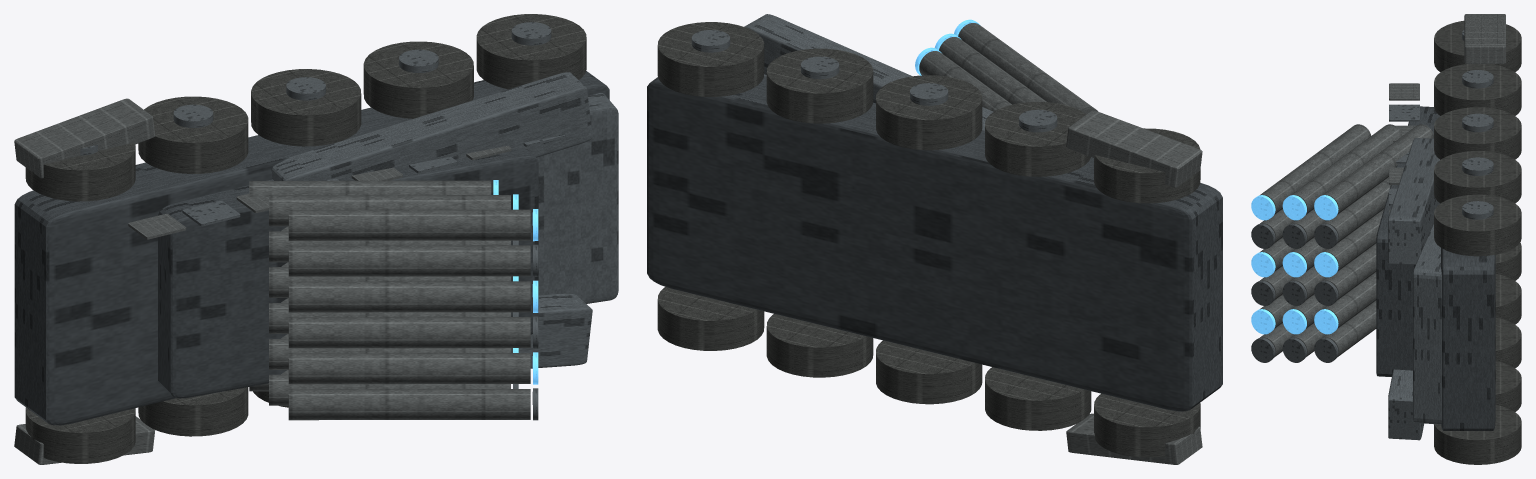
The model's file is s-u17-specter-rocket-artillery-lod0.glb.
3 views of the same model, side by side, from view 1: azimuth 30°, elevation 25°; view 2: azimuth 150°, elevation 25°; view 3: azimuth 270°, elevation 25° (orthographic). The views are drawn at different scales.
Visible parts, largest first — view 1: chassis_lower, stealth_upper_hull, stealth_cheek_1, chassis_nose, rocket_tube_16, rocket_tube_17, rocket_tube_15, rocket_tube_18, rocket_tube_14, rocket_tube_13, chassis_wheel_1_2, chassis_wheel_1_3 (+21 smaller); view 2: chassis_lower, chassis_wheel_1_3, chassis_wheel_1_4, chassis_wheel_1_2, chassis_wheel_1_1, rocket_jack_1, chassis_wheel_-1_3, chassis_wheel_-1_4, chassis_wheel_-1_2, chassis_wheel_-1_1, chassis_wheel_-1_0, chassis_wheel_1_0 (+9 smaller); view 3: chassis_lower, stealth_upper_hull, chassis_nose, stealth_cheek_1, chassis_wheel_1_4, chassis_wheel_1_3, chassis_wheel_1_1, chassis_wheel_1_2, chassis_wheel_-1_4, rocket_tube_6, rocket_tube_18, rocket_tube_12 (+46 smaller).
Boxes of the visible parts, x1=… form: chassis_lower: x1=14, y1=71, x2=609, y2=425; stealth_upper_hull: x1=158, y1=148, x2=538, y2=398; stealth_cheek_1: x1=271, y1=72, x2=592, y2=180; chassis_nose: x1=537, y1=93, x2=618, y2=303; rocket_tube_16: x1=288, y1=281, x2=530, y2=312; rocket_tube_17: x1=288, y1=245, x2=530, y2=276; rocket_tube_15: x1=288, y1=317, x2=530, y2=348; rocket_tube_18: x1=288, y1=209, x2=530, y2=240; rocket_tube_14: x1=288, y1=353, x2=530, y2=384; rocket_tube_13: x1=288, y1=389, x2=530, y2=420; chassis_wheel_1_2: x1=251, y1=69, x2=361, y2=146; chassis_wheel_1_3: x1=363, y1=41, x2=473, y2=118; chassis_lower: x1=647, y1=76, x2=1222, y2=411; chassis_wheel_1_3: x1=766, y1=48, x2=873, y2=123; chassis_wheel_1_4: x1=657, y1=22, x2=764, y2=96; chassis_wheel_1_2: x1=876, y1=75, x2=982, y2=150; chassis_wheel_1_1: x1=985, y1=102, x2=1090, y2=176; rocket_jack_1: x1=1066, y1=110, x2=1202, y2=187; chassis_wheel_-1_3: x1=766, y1=314, x2=873, y2=377; chassis_wheel_-1_4: x1=657, y1=287, x2=764, y2=350; chassis_wheel_-1_2: x1=876, y1=340, x2=982, y2=404; chassis_wheel_-1_1: x1=985, y1=367, x2=1091, y2=430; chassis_wheel_-1_0: x1=1094, y1=393, x2=1200, y2=457; chassis_wheel_1_0: x1=1094, y1=128, x2=1200, y2=203; chassis_lower: x1=1441, y1=248, x2=1495, y2=430; stealth_upper_hull: x1=1376, y1=106, x2=1439, y2=376; chassis_nose: x1=1413, y1=223, x2=1441, y2=424; stealth_cheek_1: x1=1388, y1=138, x2=1440, y2=264; chassis_wheel_1_4: x1=1434, y1=194, x2=1521, y2=256; chassis_wheel_1_3: x1=1434, y1=151, x2=1521, y2=203; chassis_wheel_1_1: x1=1434, y1=64, x2=1521, y2=115; chassis_wheel_1_2: x1=1434, y1=107, x2=1521, y2=159; chassis_wheel_-1_4: x1=1434, y1=405, x2=1521, y2=464; rocket_tube_6: x1=1323, y1=124, x2=1433, y2=214; rocket_tube_18: x1=1260, y1=124, x2=1371, y2=214; rocket_tube_12: x1=1291, y1=124, x2=1401, y2=214.
Size of what is drawn, in the model's own units: 7.95 by 4.52 by 4.16.
Materials: 6 (6 with a texture image).
